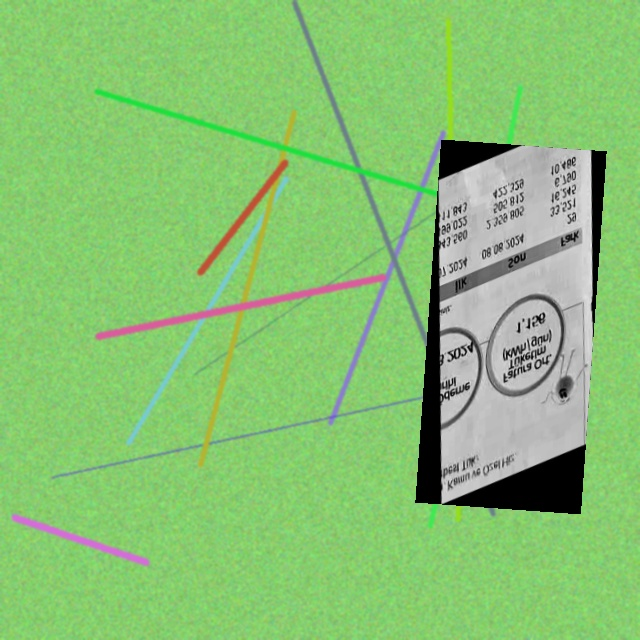electricity-bill: (414, 139, 606, 513)
